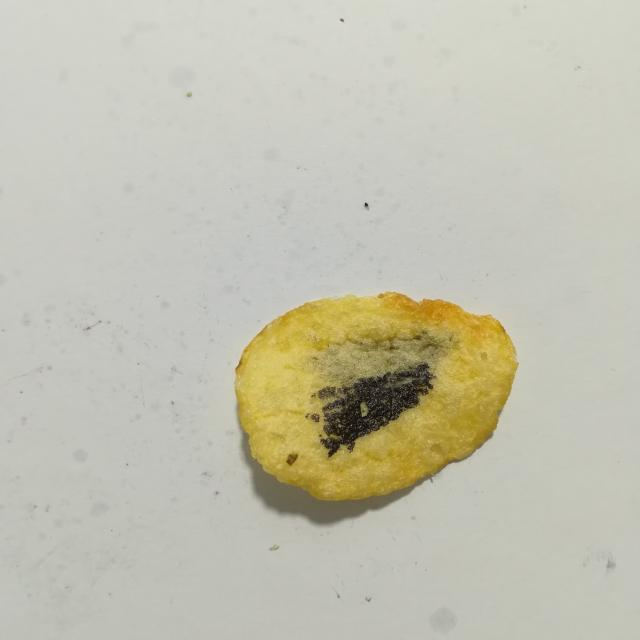chip: (235, 292, 517, 500)
damaged: (318, 362, 433, 456), (286, 453, 298, 466), (305, 413, 319, 422), (310, 393, 316, 398), (319, 434, 322, 437)
semi-damaged: (315, 329, 454, 387)
